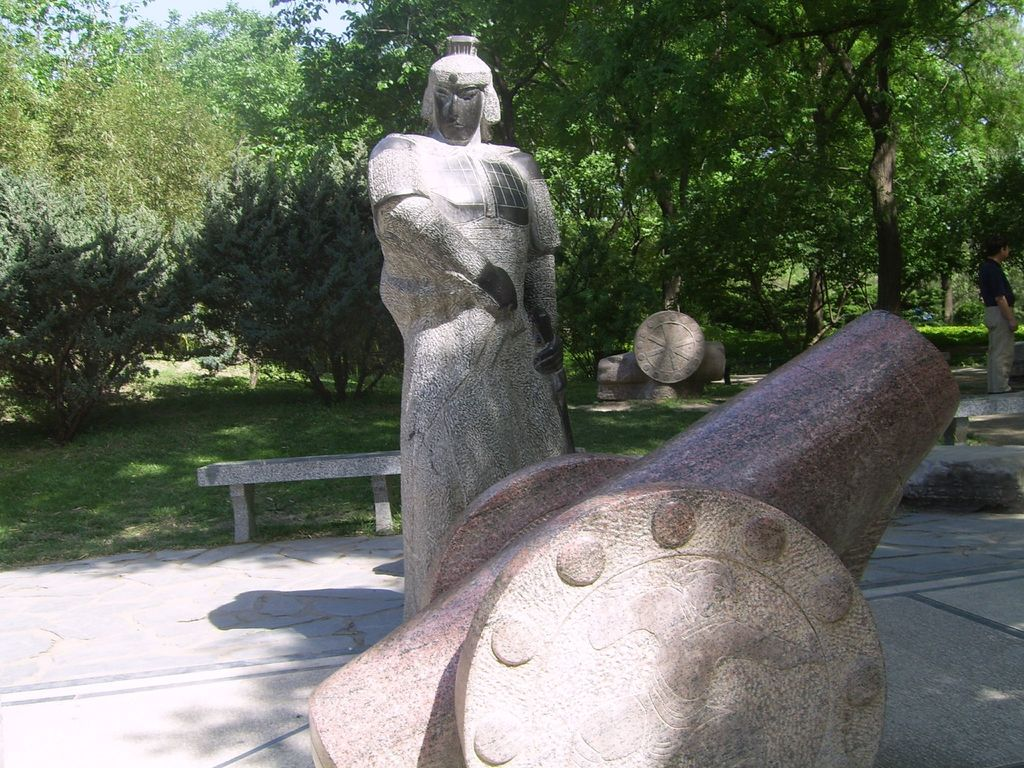Tree: (0, 0, 1024, 447)
